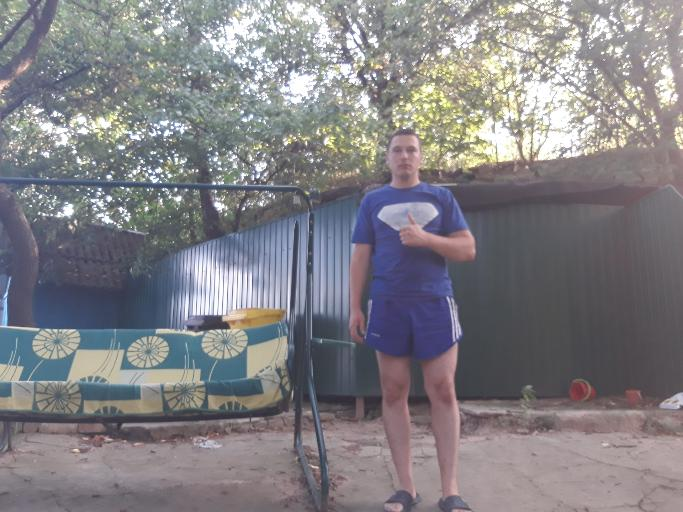like: (396, 211, 425, 248)
no_gesture: (346, 309, 367, 346)
